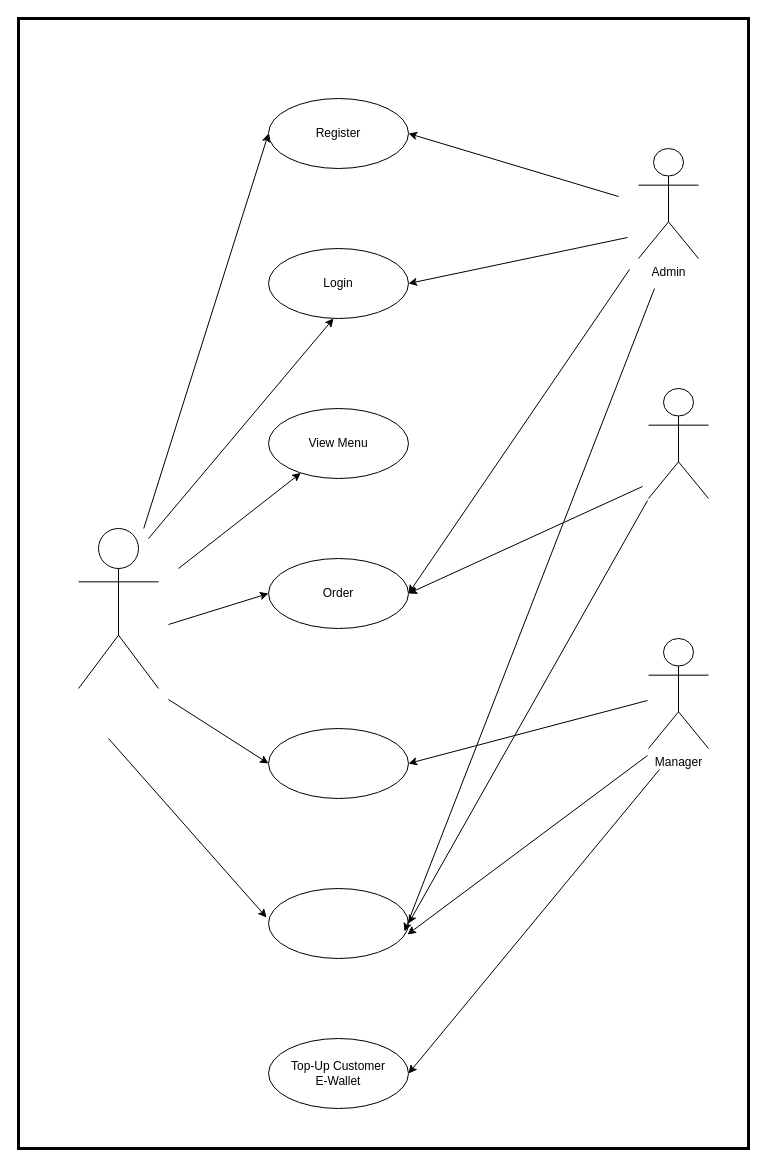
Some shapes in this 767 by 1167 pixel diagram are drawn without their labels. Each missing label, with the centre of its shape:
Chef: (x=678, y=443)
Customer: (x=118, y=608)
Send Feedback: (x=338, y=763)
Update Own Profile: (x=338, y=923)
